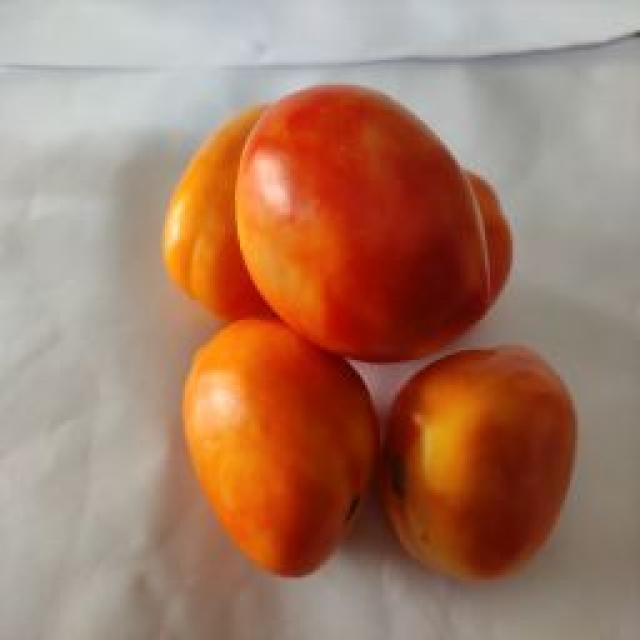tomato: (236, 83, 487, 363), (183, 320, 381, 580), (382, 348, 577, 578)
